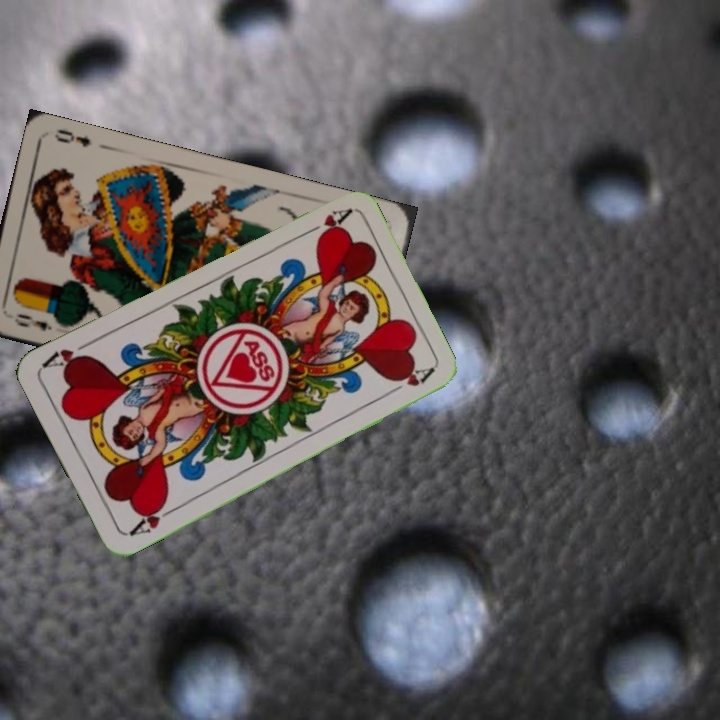EO: (10, 309, 55, 334)
HA: (124, 498, 178, 539), (297, 204, 353, 243)
